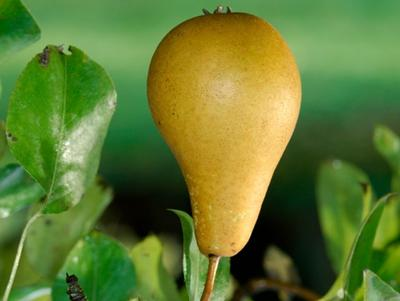pear: (0, 0, 400, 301)
